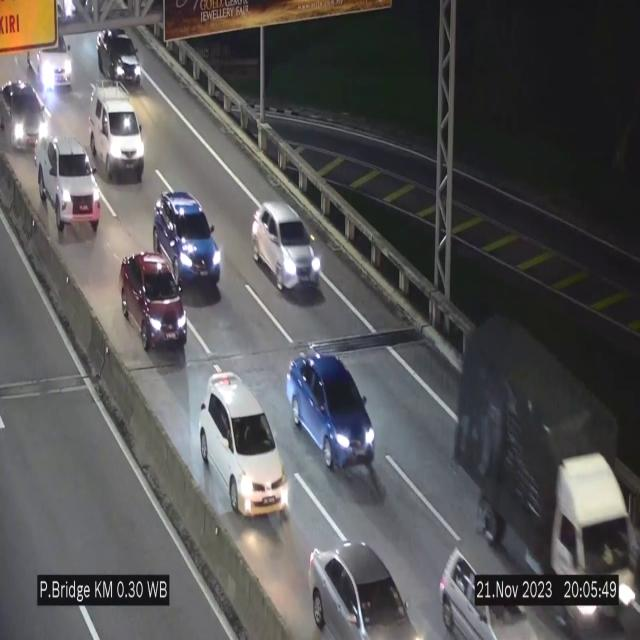Car: (193, 374, 288, 518), (432, 528, 544, 640), (286, 349, 374, 470), (308, 544, 418, 638), (35, 133, 106, 234), (120, 252, 186, 351), (154, 190, 222, 286), (252, 202, 322, 290), (91, 80, 144, 182), (26, 13, 82, 90), (0, 82, 50, 153), (98, 29, 142, 87)
Truck: (451, 309, 640, 624)
